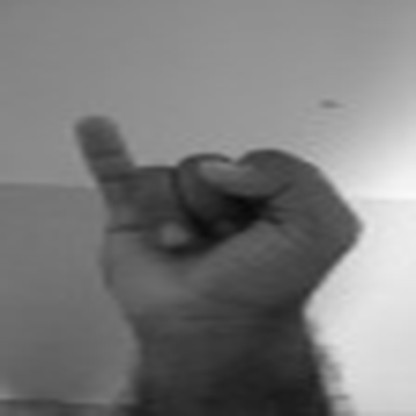i: (50, 106, 378, 330)
